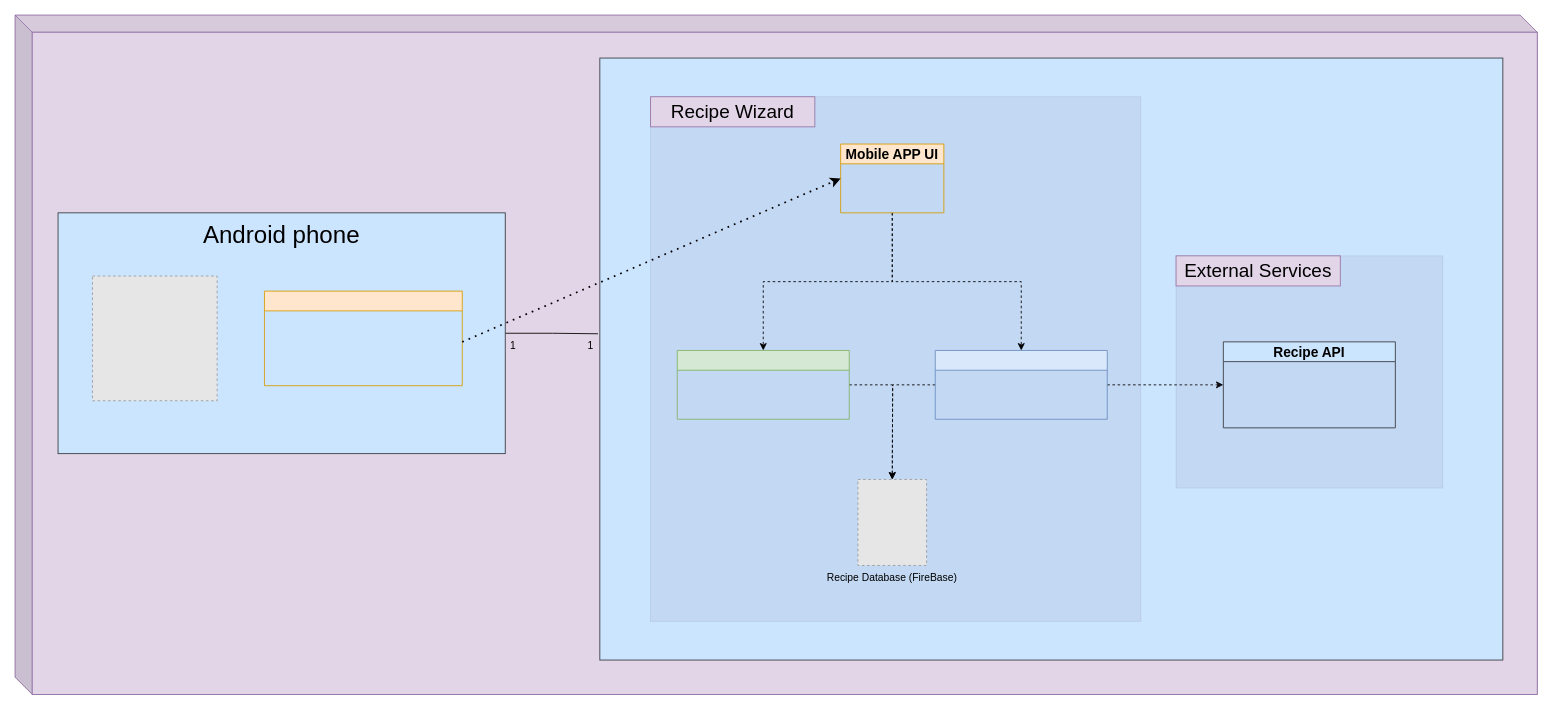
Some shapes in this 1552 by 710 pixel diagram are drawn without their labels. Grey dashed boxes stand in for pictures. Here are the shapes that lost their labels. From the top down, the box of each, then its label:
(264, 290, 462, 386): Recipe Wizard APP
(676, 350, 849, 419): Inventory Storage Logic
(934, 350, 1107, 419): Recipe Search Logic
